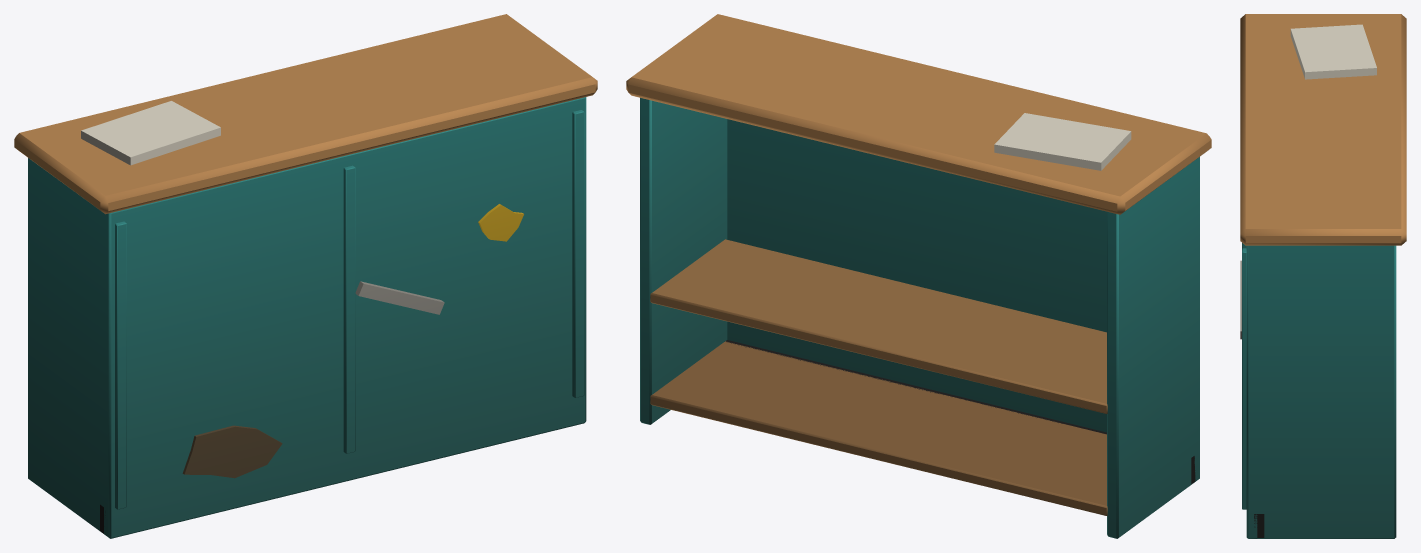
The model's file is 47a_comptoir_boutique_5.fbx.
The picture shows the model from 3 angles, left to right: view 1: azimuth 30°, elevation 25°; view 2: azimuth 150°, elevation 25°; view 3: azimuth 270°, elevation 25°; orthographic projection. The views are drawn at different scales.
Parts seen in each view (by area): view 1: Comptoir; view 2: Comptoir; view 3: Comptoir.
Boxes of the visible parts, box(x1,y1,x2,y2) form: Comptoir: box(14, 14, 597, 538); Comptoir: box(626, 14, 1211, 538); Comptoir: box(1240, 14, 1406, 538).
Size of the model in its own units: 1.4 by 0.952 by 0.448.
1 material, 1 textured.
